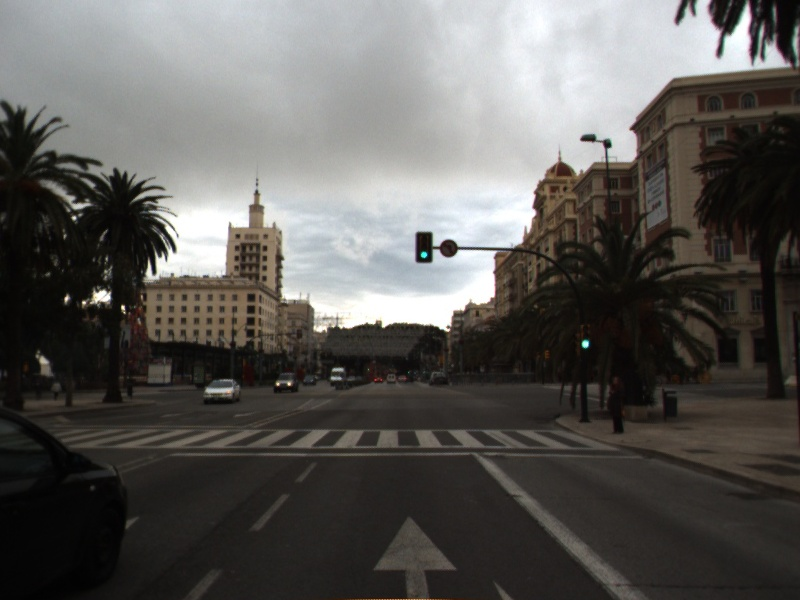STRAIGHT: (371, 513, 459, 600)
